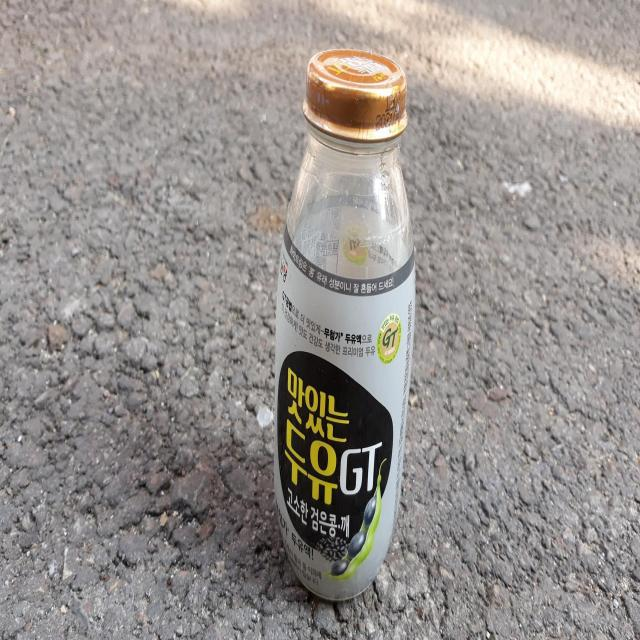glass: (275, 48, 415, 601)
